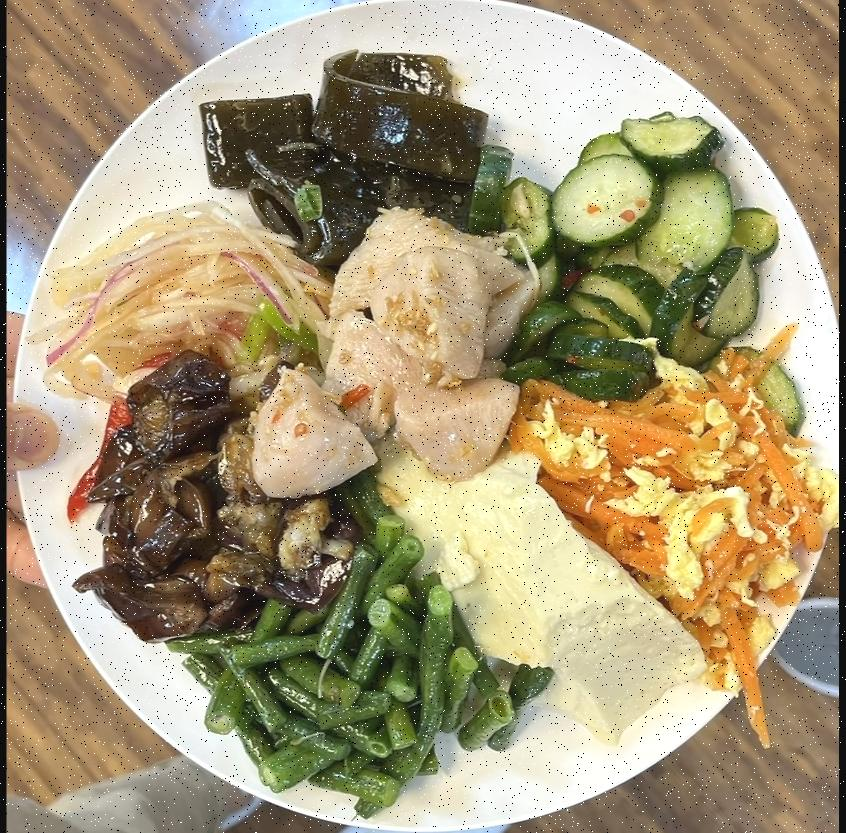plate: (10, 0, 839, 827)
scallion chicken: (249, 203, 519, 509)
side dish: (170, 517, 552, 807), (377, 445, 704, 746), (472, 107, 788, 405), (518, 364, 832, 648), (73, 349, 324, 649), (193, 45, 484, 256), (31, 208, 330, 387)
